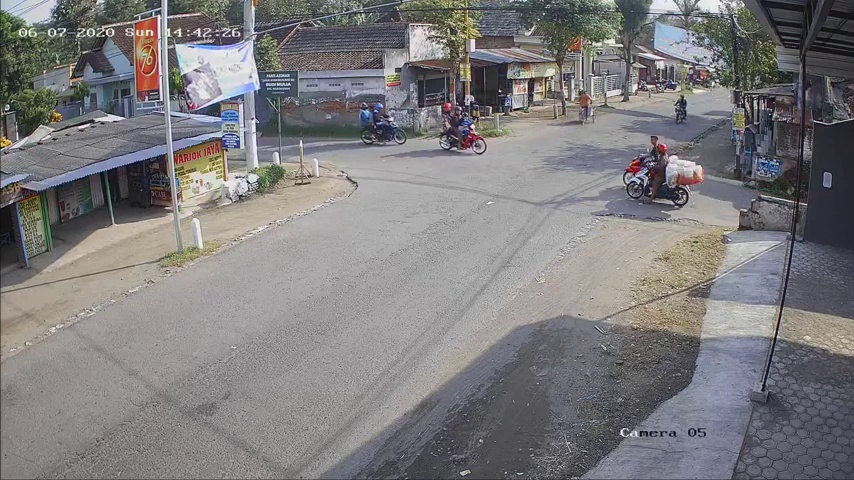motorbike: (624, 132, 691, 206), (441, 100, 486, 154), (357, 102, 406, 145), (673, 95, 689, 124)
